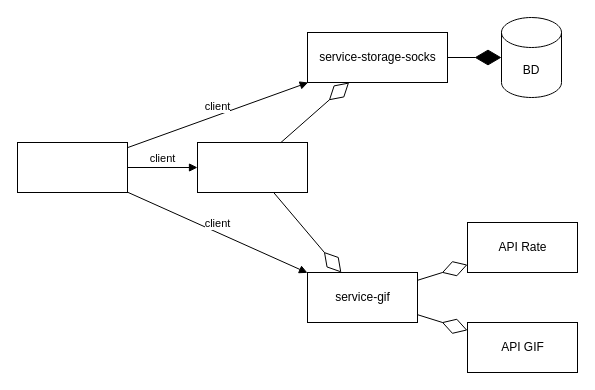
Some shapes in this 595 by 390 pixel diagram are drawn without their labels. Each missing label, with the box of its shape:
discovery-server: (16, 142, 128, 192)
Meta: (196, 142, 308, 192)
